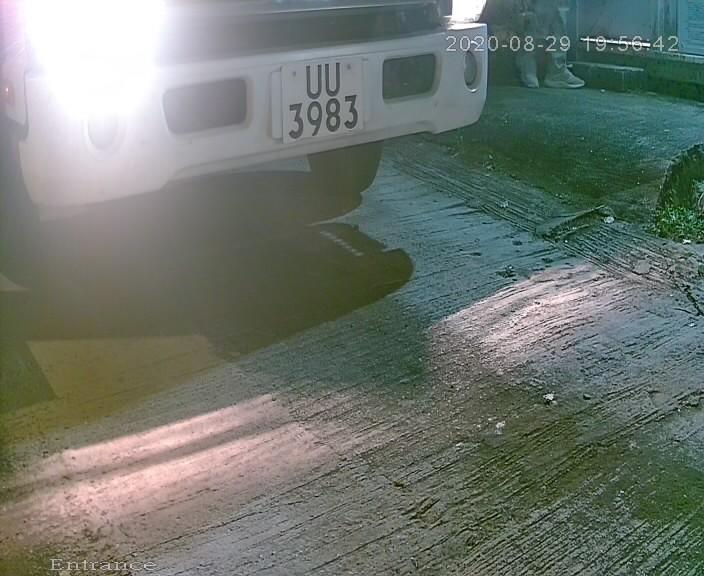License Plate: (252, 42, 384, 168)
